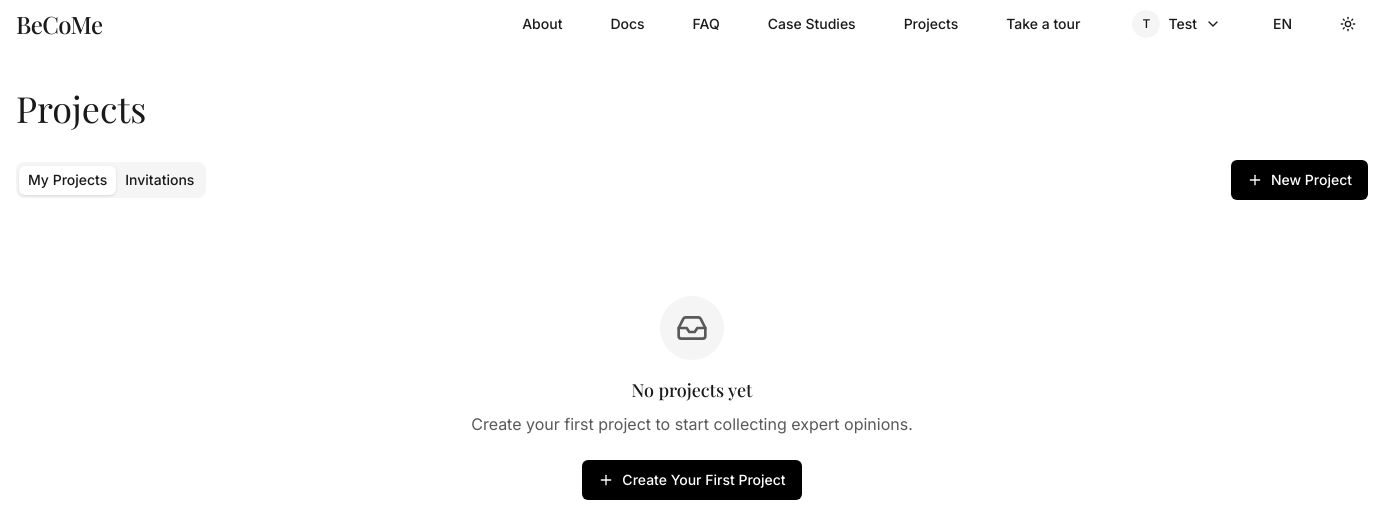
Test case: Projects › Invitations › shows empty state when no invitations
Click the tab "Invitations". click: {"x": 160, "y": 180}
box: [116, 166, 203, 194]
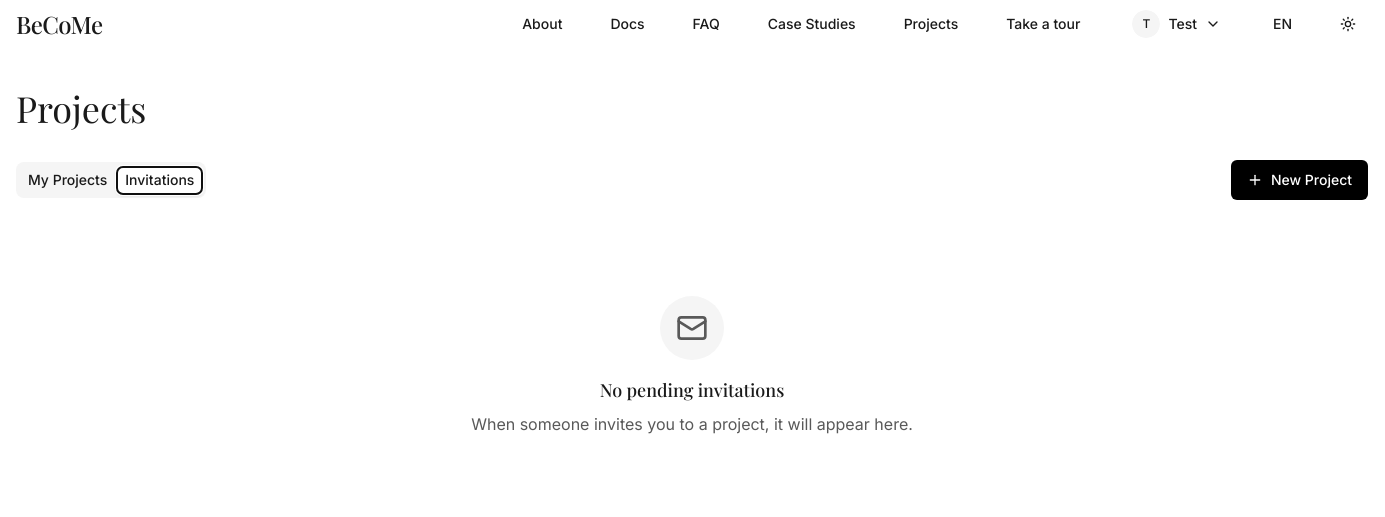
Expected: the heading "No pending invitations" is shown, [600, 378, 784, 402]
